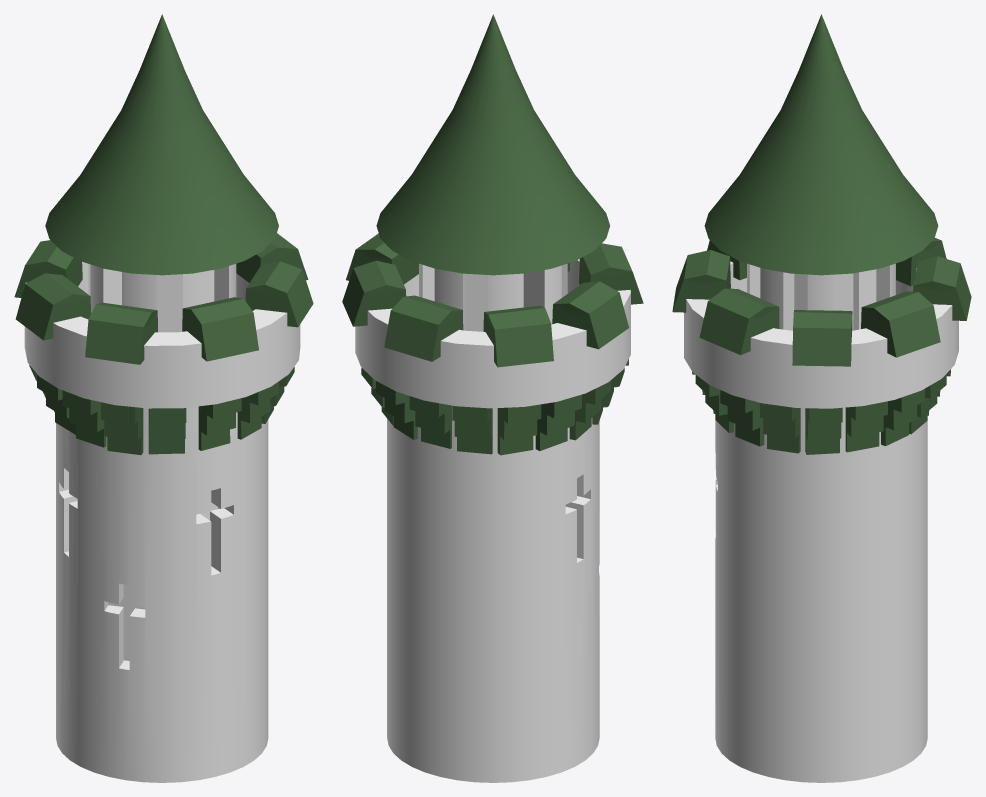
Rendered from Tower01.fbx.
The picture shows the model from 3 angles, left to right: view 1: azimuth 30°, elevation 25°; view 2: azimuth 150°, elevation 25°; view 3: azimuth 270°, elevation 25°; orthographic projection.
Visible parts, largest first — view 1: tower, Cone01, Tube01, Cylinder01, Gengon02, Gengon07, Gengon06, Gengon01, Box16, Gengon03, Box06, Box09 (+4 smaller); view 2: tower, Cone01, Tube01, Cylinder01, Gengon04, Gengon03, Gengon06, Gengon08, Gengon07, Box14, Box02, Box08 (+4 smaller); view 3: tower, Cone01, Tube01, Cylinder01, Gengon08, Gengon01, Gengon05, Gengon04, Box03 (×2), Gengon02, Box04, Box12 (+4 smaller).
Boxes of the visible parts, bbox=[...] form: tower: bbox=[56, 406, 268, 782]; Cone01: bbox=[45, 14, 278, 275]; Tube01: bbox=[24, 261, 300, 408]; Cylinder01: bbox=[88, 264, 236, 332]; Gengon02: bbox=[182, 297, 258, 361]; Gengon07: bbox=[85, 302, 157, 364]; Gengon06: bbox=[15, 273, 91, 340]; Gengon01: bbox=[245, 261, 313, 327]; Box16: bbox=[101, 402, 143, 455]; Gengon03: bbox=[14, 240, 82, 297]; Box06: bbox=[148, 408, 186, 454]; Box09: bbox=[198, 398, 241, 450]; tower: bbox=[387, 406, 599, 782]; Cone01: bbox=[376, 14, 609, 275]; Tube01: bbox=[355, 259, 630, 408]; Cylinder01: bbox=[419, 263, 567, 331]; Gengon04: bbox=[384, 295, 463, 361]; Gengon03: bbox=[483, 305, 553, 367]; Gengon06: bbox=[552, 281, 629, 349]; Gengon08: bbox=[342, 260, 406, 326]; Gengon07: bbox=[579, 243, 643, 304]; Box14: bbox=[497, 404, 541, 455]; Box02: bbox=[452, 405, 492, 454]; Box08: bbox=[535, 394, 581, 450]; tower: bbox=[715, 407, 927, 782]; Cone01: bbox=[704, 14, 938, 275]; Tube01: bbox=[684, 261, 958, 408]; Cylinder01: bbox=[747, 263, 895, 330]; Gengon08: bbox=[861, 291, 940, 357]; Gengon01: bbox=[699, 288, 779, 355]; Gengon05: bbox=[792, 310, 852, 366]; Gengon04: bbox=[913, 256, 971, 320]; Box03 (×2): bbox=[695, 375, 800, 453]; Gengon02: bbox=[672, 250, 730, 312]; Box04: bbox=[845, 401, 887, 452]; Box12: bbox=[805, 407, 842, 454].
Bounding box in the file's own units: 2.23 × 5.92 × 2.22.
